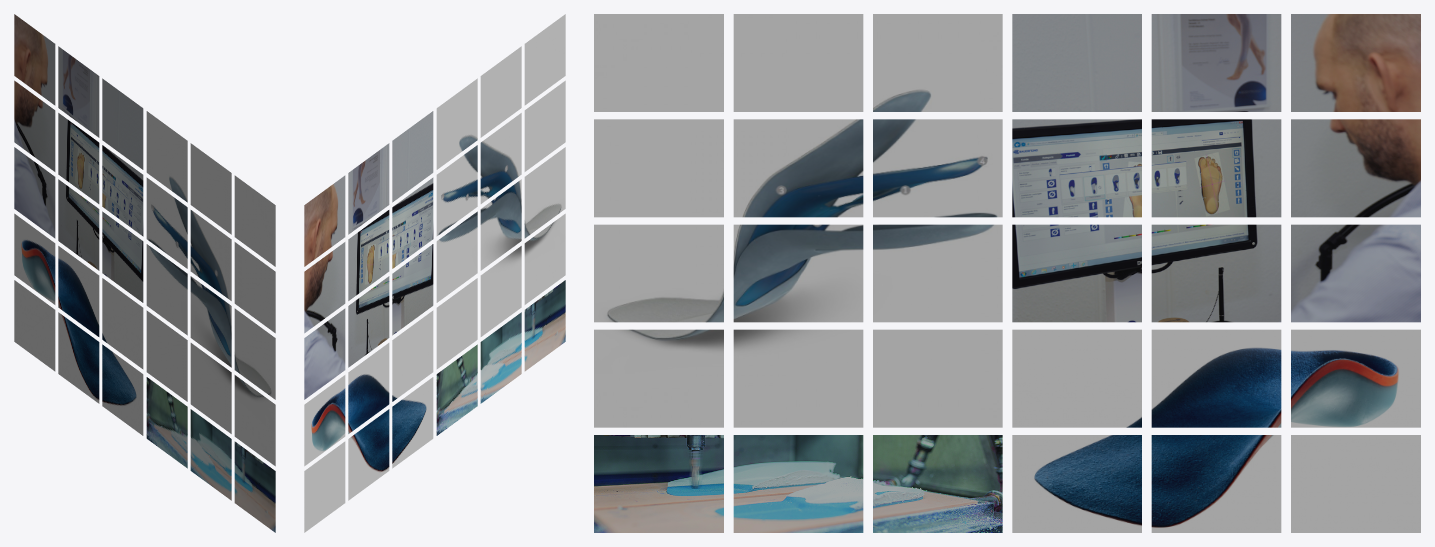
Rendered from TV_ort_1.glb.
3 renders of one model, left to right at view 1: azimuth 30°, elevation 25°; view 2: azimuth 150°, elevation 25°; view 3: azimuth 270°, elevation 25°, orthographic. The views are drawn at different scales.
Visible parts, largest first — view 1: 1, 3, 4, 2; view 2: 1, 3, 4, 2; view 3: 1, 3, 4, 2.
Part boxes in pixels (bbox=[...]): 1: bbox=[146, 111, 275, 466]; 3: bbox=[14, 14, 143, 302]; 4: bbox=[14, 213, 143, 435]; 2: bbox=[146, 377, 275, 532]; 1: bbox=[436, 14, 565, 369]; 3: bbox=[304, 111, 433, 399]; 4: bbox=[304, 310, 433, 532]; 2: bbox=[436, 280, 565, 435]; 1: bbox=[594, 14, 1002, 427]; 3: bbox=[1012, 14, 1420, 322]; 4: bbox=[1012, 329, 1420, 532]; 2: bbox=[594, 435, 1002, 532].
Size of the model in its own units: 1.27e-07 by 8.82 by 12.74.
4 materials, 4 textured.
